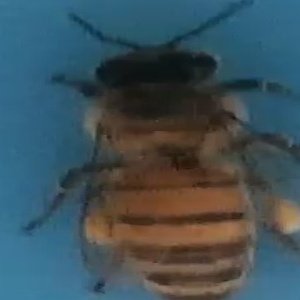bee: (20, 14, 298, 297)
